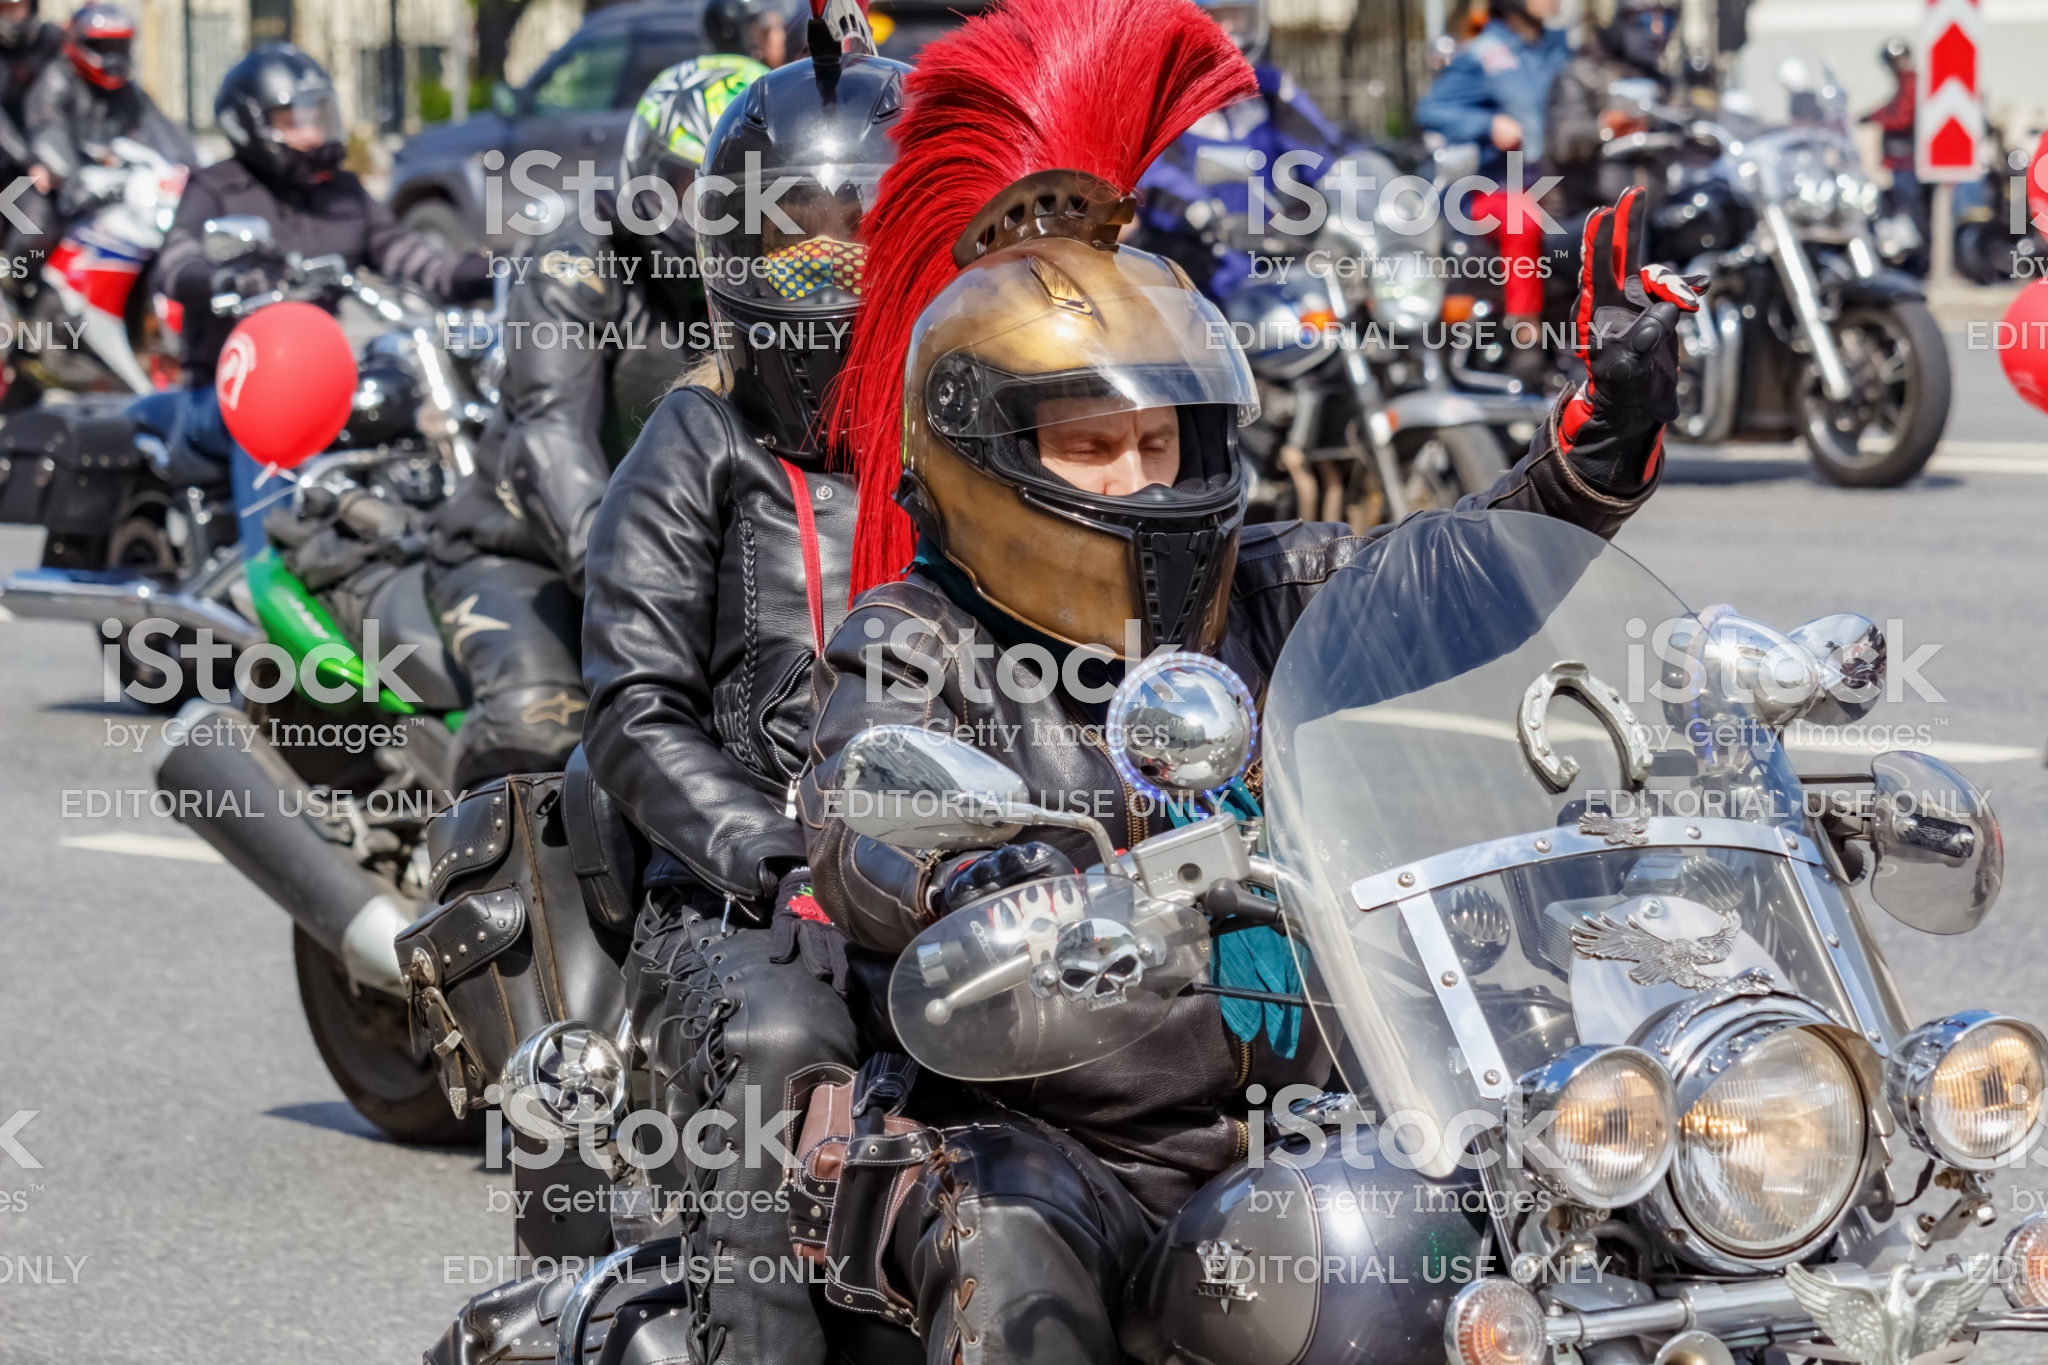helmet: (898, 251, 1278, 608), (688, 85, 936, 433)
